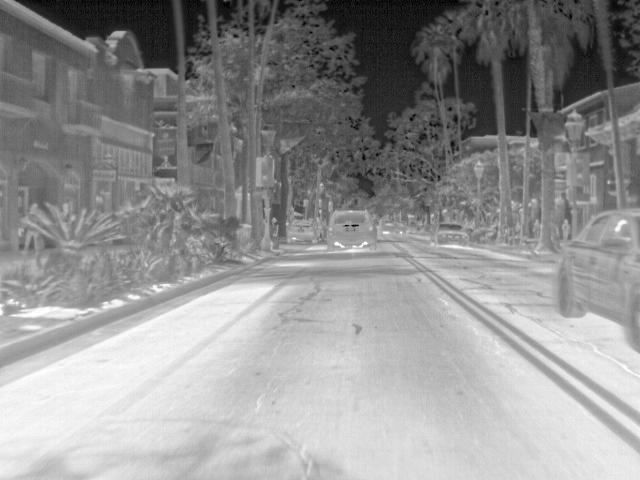car: (556, 208, 640, 351), (326, 210, 375, 248), (429, 222, 469, 247), (286, 219, 320, 245), (377, 218, 411, 236)
person: (18, 201, 46, 257), (560, 217, 572, 242), (530, 216, 543, 238)
